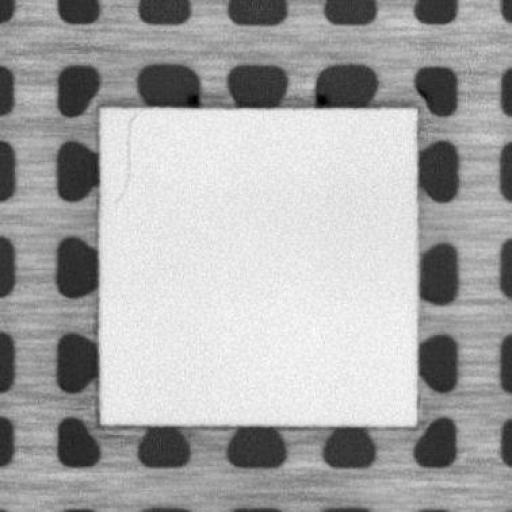DIE_CRACK: (111, 112, 137, 201)
